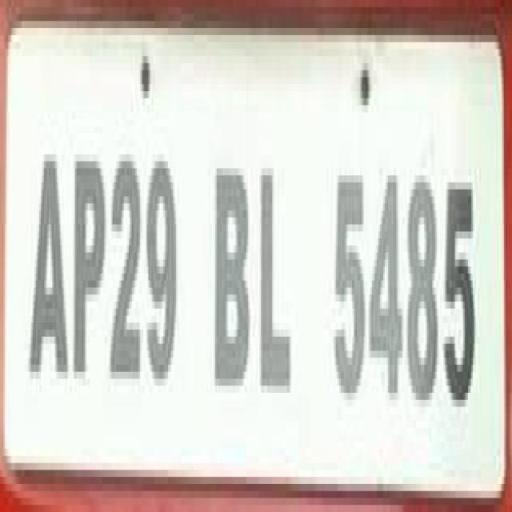number plate: (17, 7, 512, 512)
